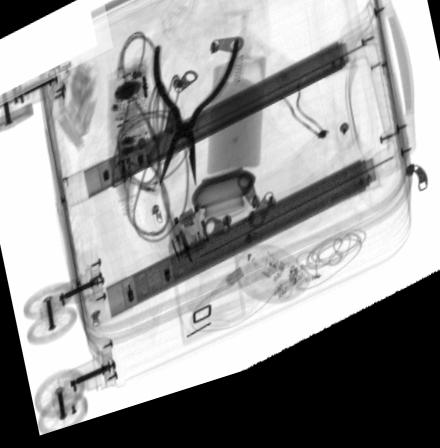Pliers: (152, 51, 240, 199)
